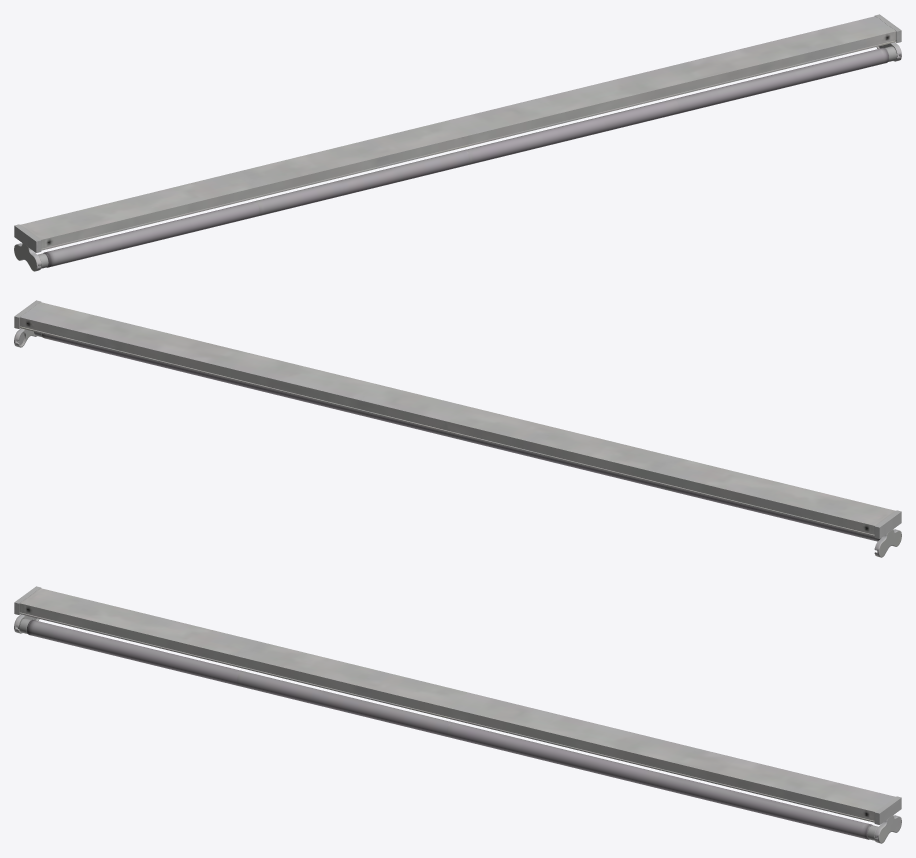
The model's file is mounted-fluorescent--5.gltf.
3 views of the same model, one above another, from view 1: azimuth 30°, elevation 25°; view 2: azimuth 150°, elevation 25°; view 3: azimuth 330°, elevation 25° (orthographic).
Parts seen in each view (by area): view 1: mounted_fluorescent_lights_e; view 2: mounted_fluorescent_lights_e; view 3: mounted_fluorescent_lights_e.
Boxes of the visible parts, x1=… form: mounted_fluorescent_lights_e: x1=14, y1=14, x2=901, y2=271; mounted_fluorescent_lights_e: x1=14, y1=300, x2=901, y2=557; mounted_fluorescent_lights_e: x1=14, y1=586, x2=901, y2=843.
Size of the model in its own units: 0.9109 by 0.0324 by 0.0421.
Materials: 2 (2 with a texture image).
